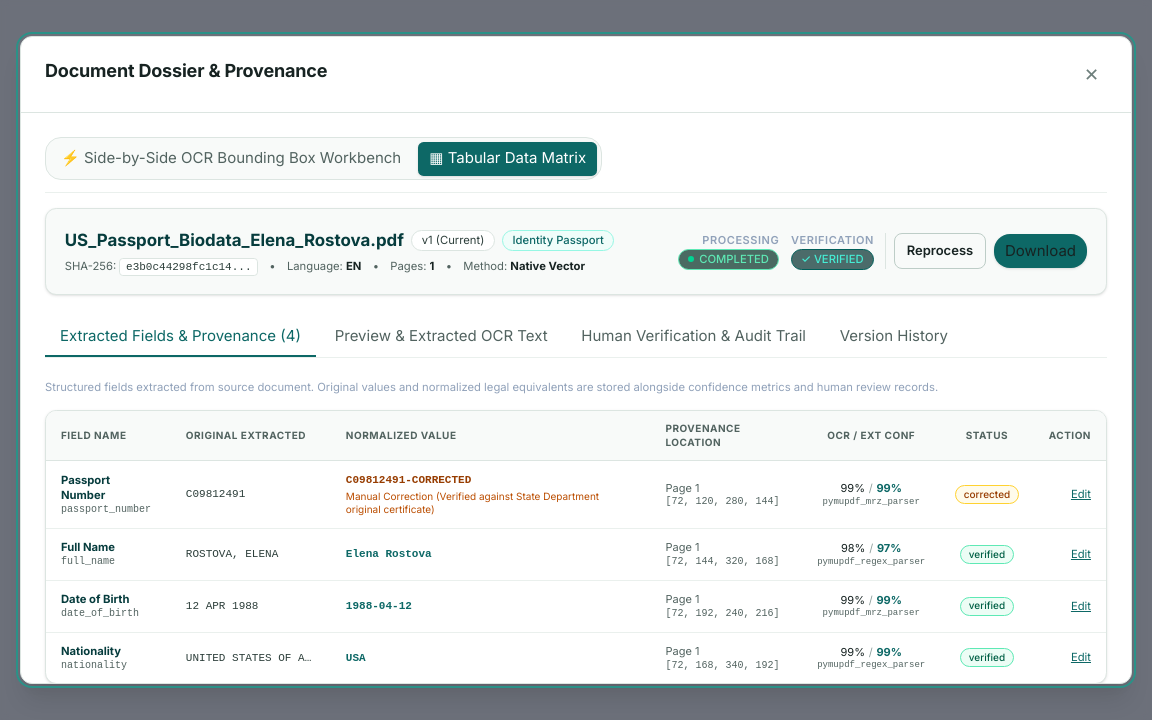
Scenario: Phase 4 — Document Management, OCR & Structured Extraction Workflows › displays version history and integrity lineage
# Navigate to Version History tab
Click the button "Version History" at (894, 337), box [825,317,963,356]
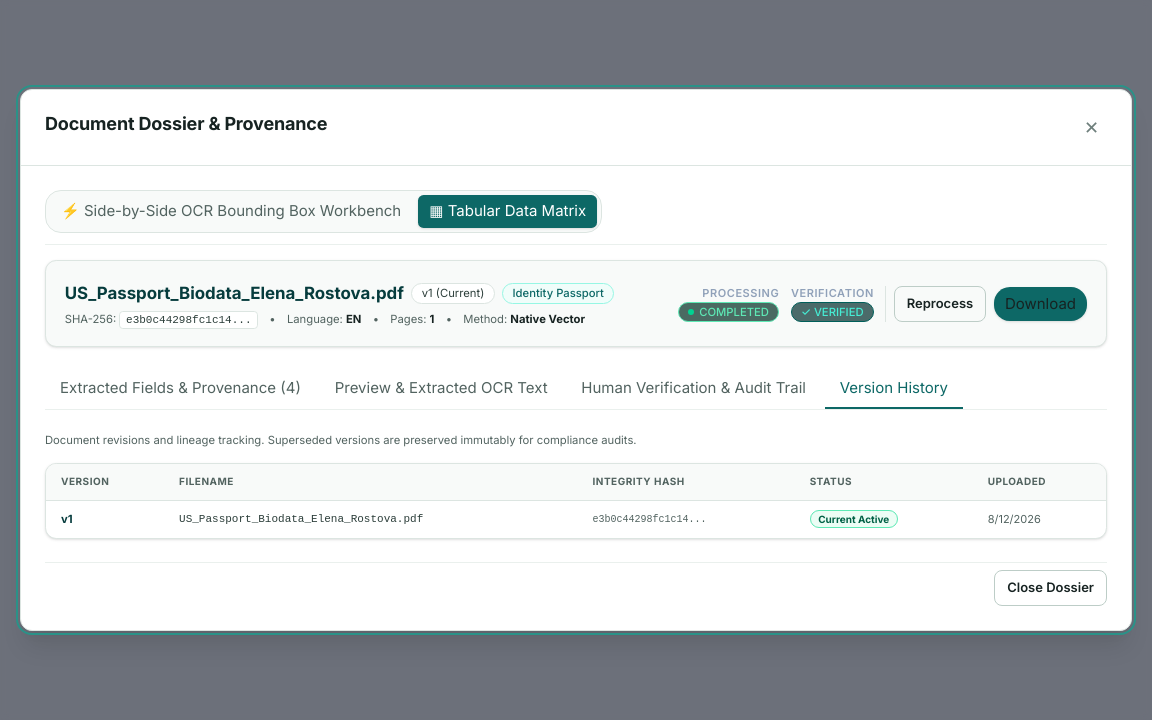
Expected: the text "v1 (Current)" is shown, [411,283,495,304]
Expected: the text "Document revisions and lineage tracking" is shown, [45,433,637,447]
Expected: the text "Current Active" is shown, [810,510,898,528]
